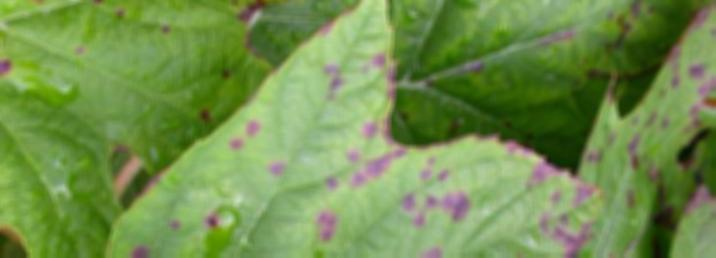Tomato leaf bacterial spot: (118, 0, 609, 258)
